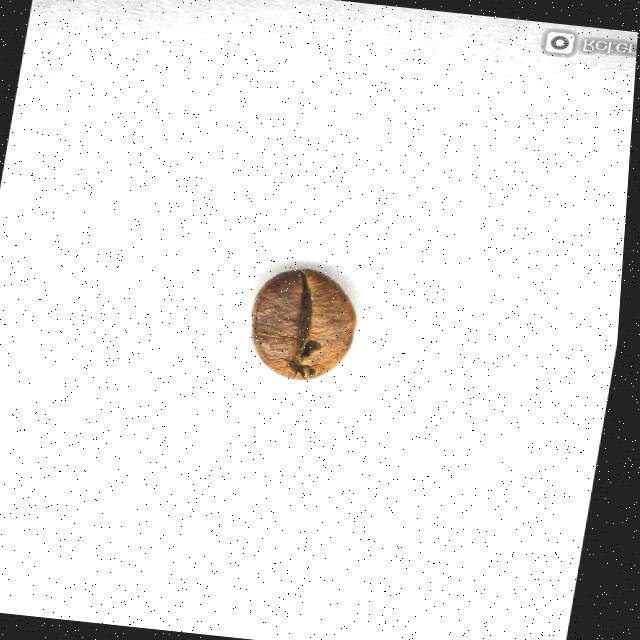Insect damage: (244, 263, 369, 386)
